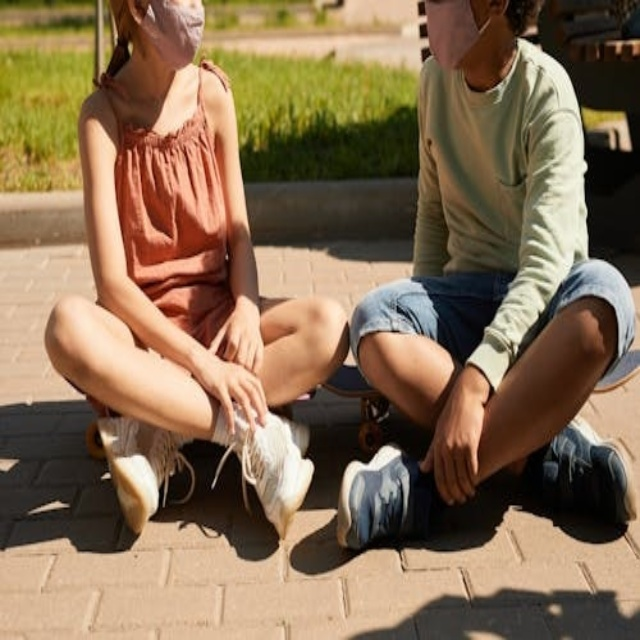Mascara: (131, 0, 205, 69), (423, 0, 492, 71)
Sin_guantes: (410, 367, 492, 515), (198, 344, 274, 442), (212, 288, 270, 373)
